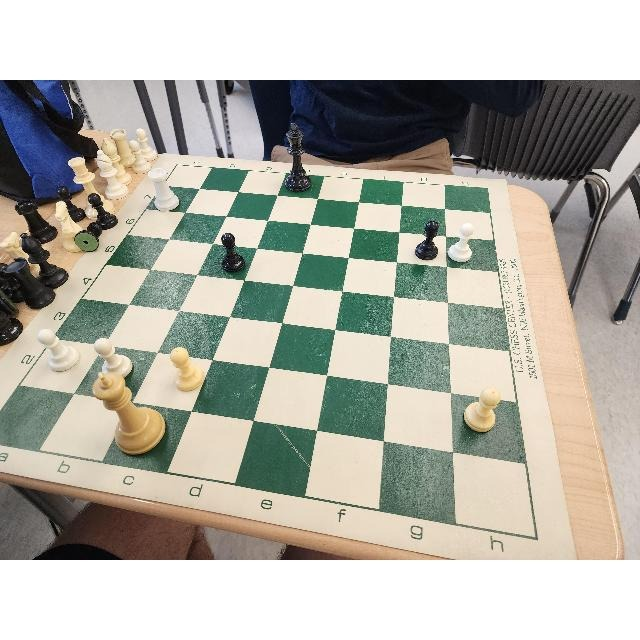black-king: (280, 119, 315, 192)
black-pawn: (411, 217, 440, 265), (216, 230, 246, 276)
white-king: (80, 368, 176, 459)
white-pawn: (458, 381, 503, 438), (164, 341, 208, 399), (33, 328, 81, 375), (92, 334, 136, 380), (447, 220, 479, 267)
white-rook: (146, 164, 183, 211)
